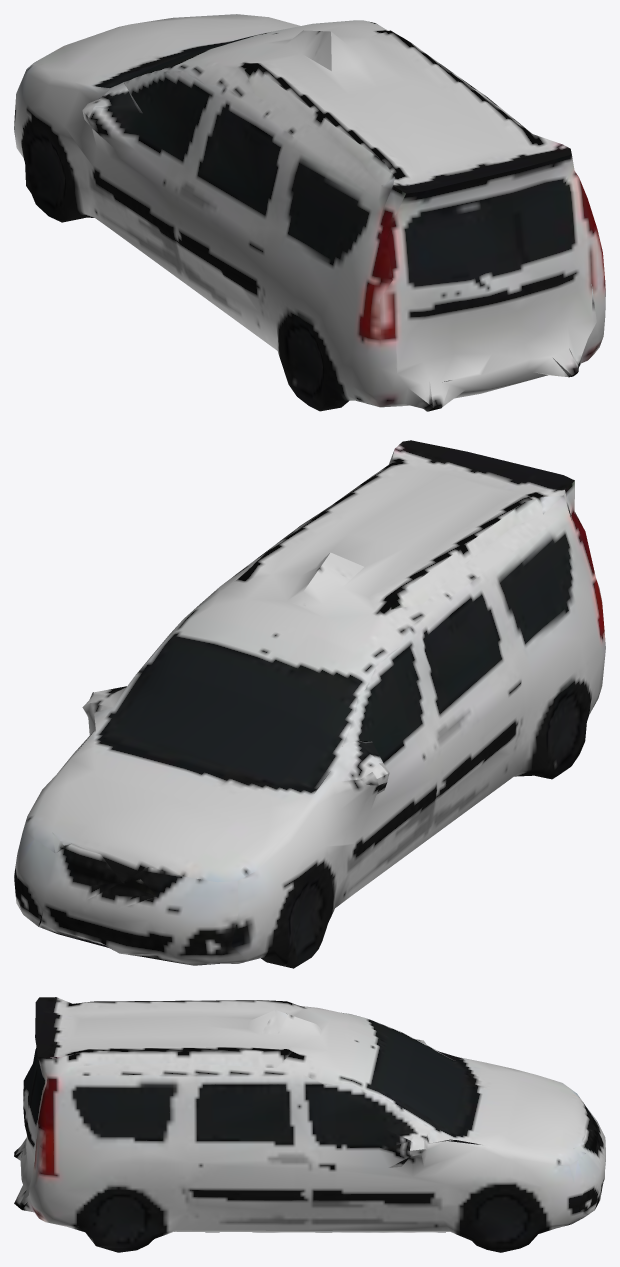
The model's file is lada_largus_lod1.glb.
3 renders of one model, top to bottom at view 1: azimuth 30°, elevation 25°; view 2: azimuth 150°, elevation 25°; view 3: azimuth 270°, elevation 25°, orthographic. The views are drawn at different scales.
Parts seen in each view (by area): view 1: body; view 2: body; view 3: body.
Boxes of the visible parts, bbox=[...] form: body: bbox=[14, 14, 605, 411]; body: bbox=[14, 440, 605, 968]; body: bbox=[14, 997, 605, 1252].
Bounding box in the file's own units: 1.95 × 1.68 × 4.52.
Materials: 9 (9 with a texture image).
